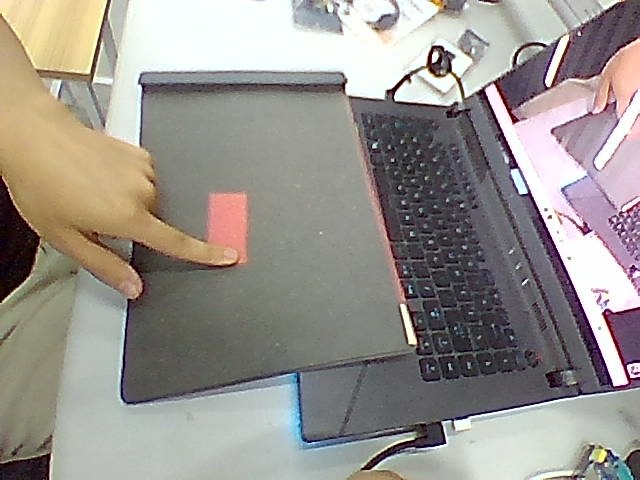card: (208, 192, 246, 262)
